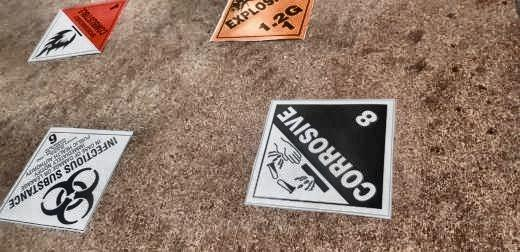corrosive: (245, 98, 396, 215)
explosive: (208, 1, 315, 41)
infectious-substance: (1, 128, 133, 232)
spontaneously-combustible: (29, 1, 127, 62)
